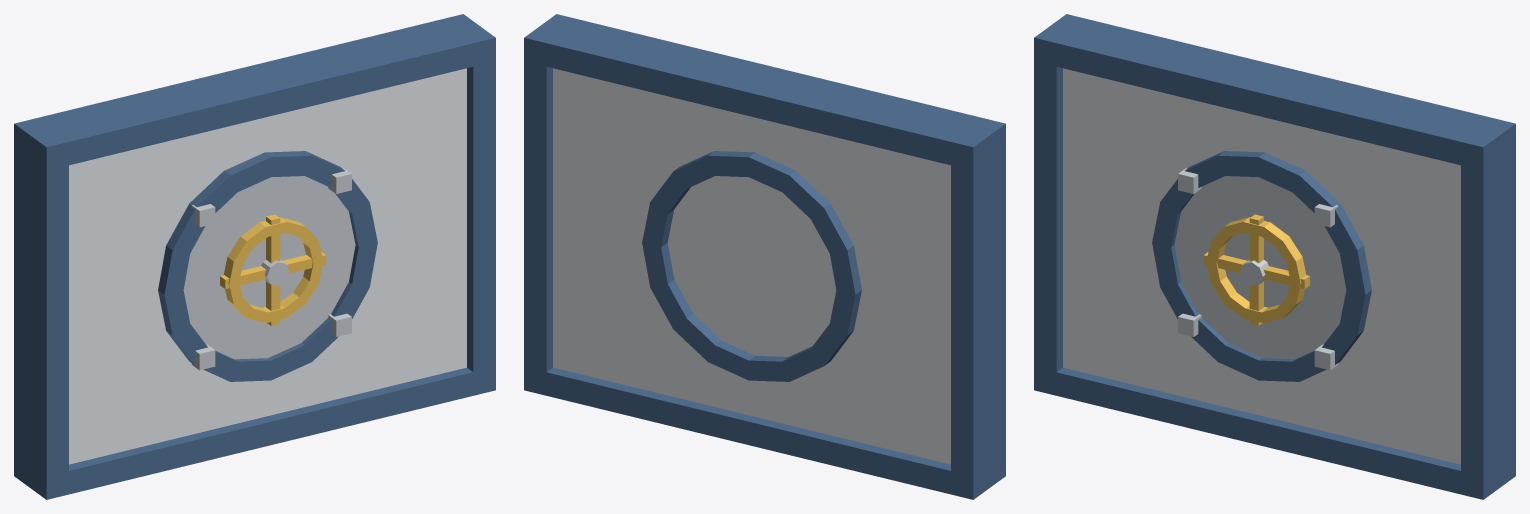
The model's file is hatch.glb.
3 views of the same model, side by side, from view 1: azimuth 30°, elevation 25°; view 2: azimuth 150°, elevation 25°; view 3: azimuth 330°, elevation 25° (orthographic).
Visible parts, largest first — view 1: hatch_hull_offwhite, hatch_navy_frame, hatch_titanium, hatch_amber_accent; view 2: hatch_hull_offwhite, hatch_navy_frame; view 3: hatch_hull_offwhite, hatch_navy_frame, hatch_titanium, hatch_amber_accent.
Boxes of the visible parts, x1,y1,x2,y2 form: hatch_hull_offwhite: (69, 68, 466, 464); hatch_navy_frame: (14, 14, 495, 499); hatch_titanium: (183, 168, 355, 370); hatch_amber_accent: (220, 214, 326, 325); hatch_hull_offwhite: (553, 68, 950, 464); hatch_navy_frame: (524, 14, 1005, 499); hatch_hull_offwhite: (1063, 68, 1460, 464); hatch_navy_frame: (1034, 14, 1515, 499); hatch_titanium: (1174, 168, 1346, 370); hatch_amber_accent: (1203, 214, 1309, 325).
Bounding box in the file's own units: 4 × 3 × 0.61.
